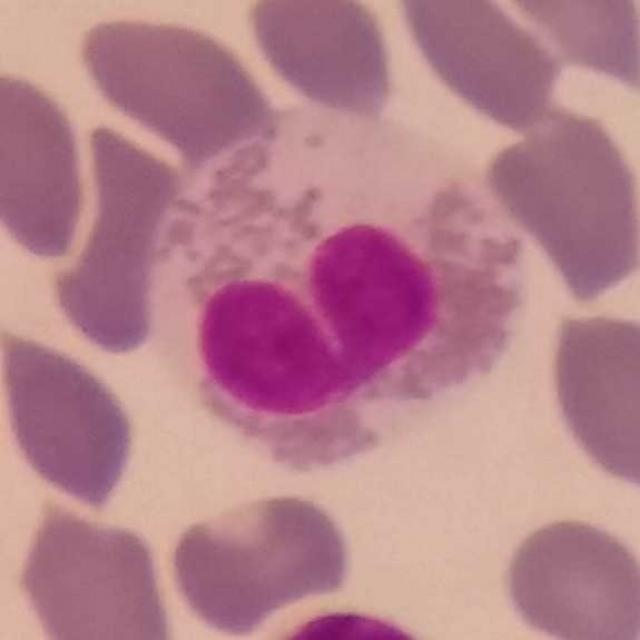eosino: (148, 101, 534, 474)
